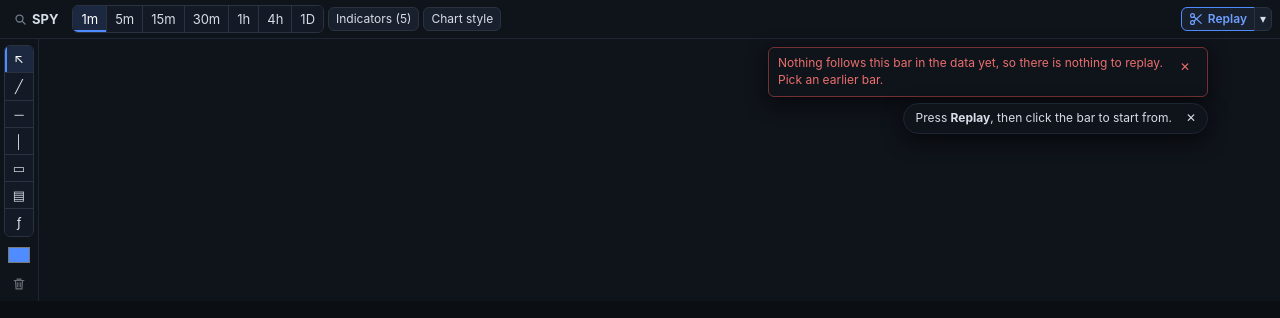
Scenario: the chart with no session › hides why a replay did not start while a bar is picked, so the hint on the chart can be read
Later steps or results of the test are not shown.
Expected: the message shows "Nothing follows this bar in the data yet", [778,55,1163,87]
Click the button "Replay": {"x": 1218, "y": 19} [1181,7,1255,32]
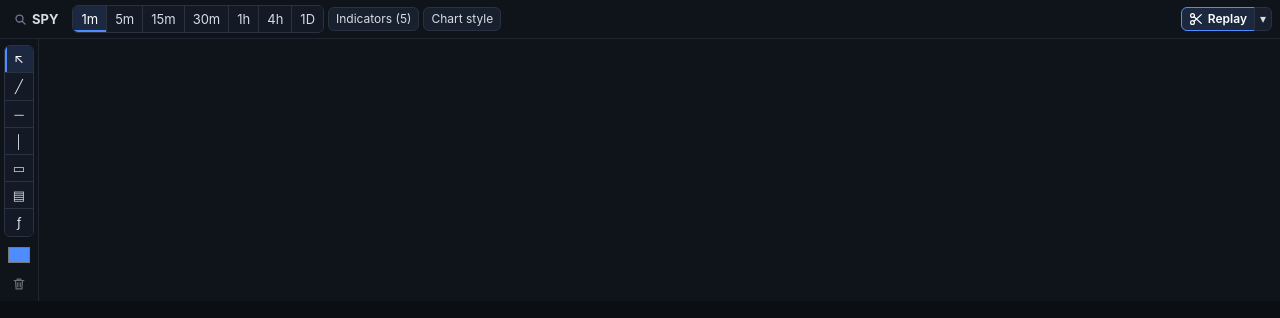
Now the message is gone
